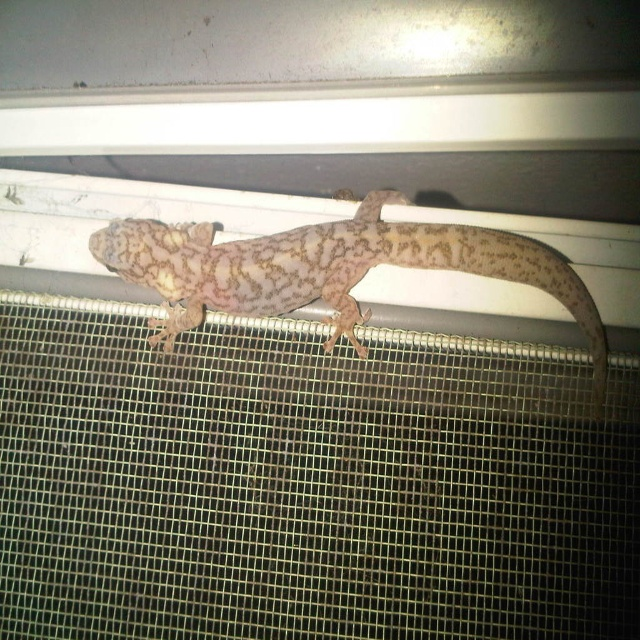Lizard: (88, 183, 608, 413)
